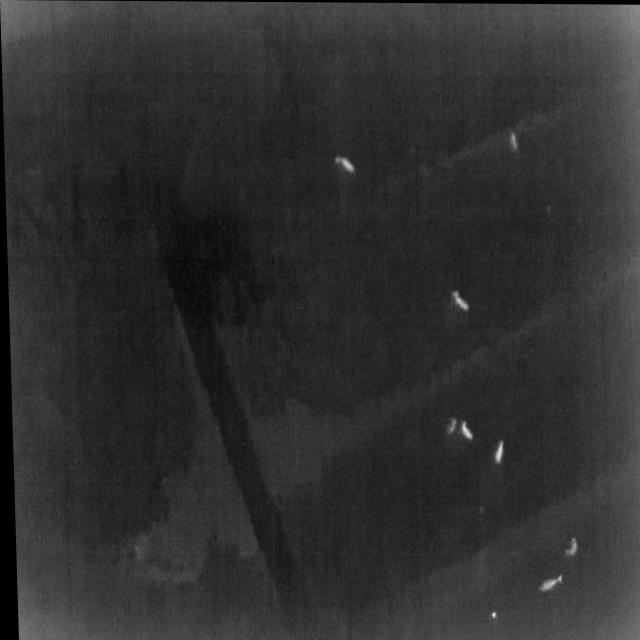deer: (448, 289, 468, 311), (534, 575, 559, 592), (333, 155, 354, 173), (489, 439, 502, 465), (560, 535, 575, 556), (458, 419, 471, 441), (442, 415, 456, 435), (509, 131, 518, 151)
